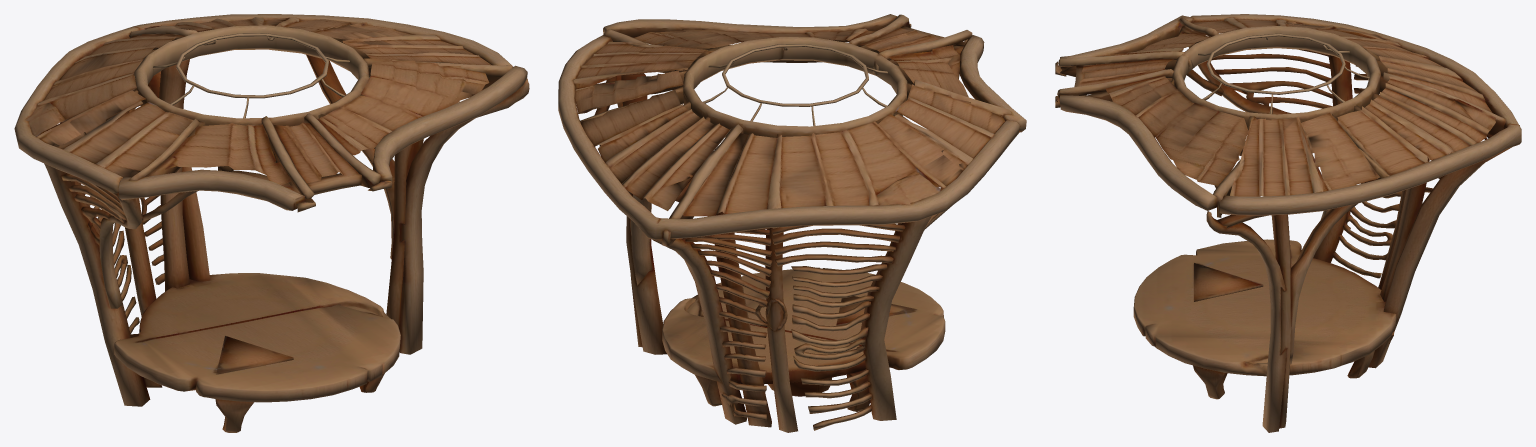
The picture shows the model from 3 angles, left to right: view 1: azimuth 30°, elevation 25°; view 2: azimuth 150°, elevation 25°; view 3: azimuth 270°, elevation 25°; orthographic projection. The views are drawn at different scales.
Visible parts, largest first — view 1: tripo_node_ce134f7d-7f08-4ca9-8c82-f8775bb708d9; view 2: tripo_node_ce134f7d-7f08-4ca9-8c82-f8775bb708d9; view 3: tripo_node_ce134f7d-7f08-4ca9-8c82-f8775bb708d9.
Part boxes in pixels (x1,y1,x2,y2): tripo_node_ce134f7d-7f08-4ca9-8c82-f8775bb708d9: (14, 14, 529, 432); tripo_node_ce134f7d-7f08-4ca9-8c82-f8775bb708d9: (558, 14, 1026, 432); tripo_node_ce134f7d-7f08-4ca9-8c82-f8775bb708d9: (1055, 14, 1521, 432).
Bounding box in the file's own units: 0.998 × 0.6992 × 0.998.
Materials: 1 (1 with a texture image).
